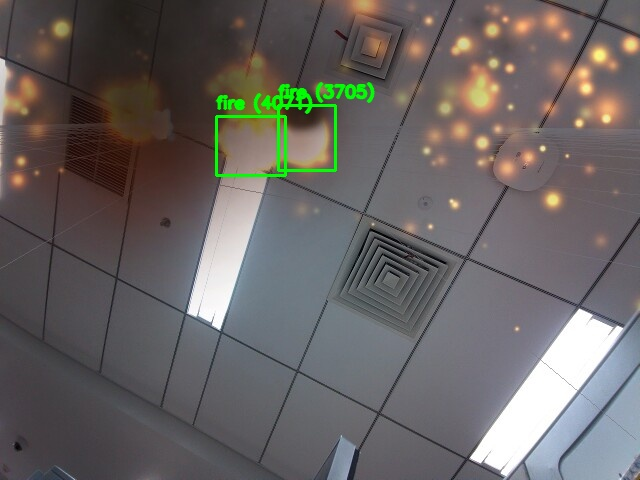fire: (216, 116, 285, 175), (278, 105, 335, 170)
